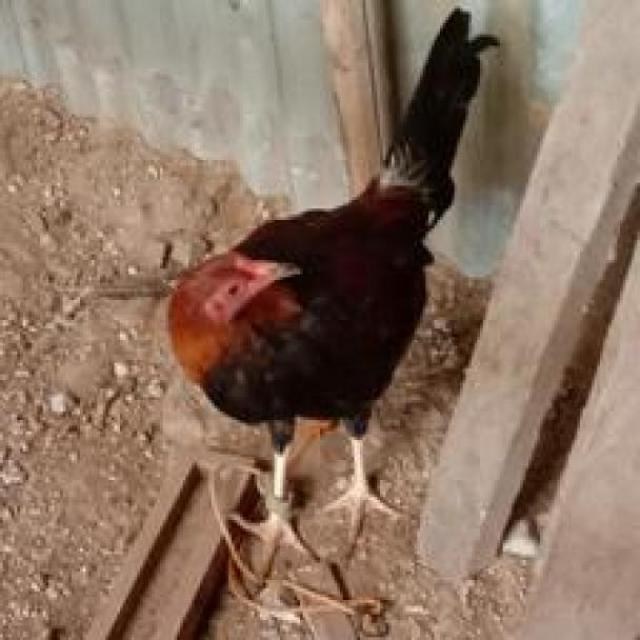Chicken: (145, 10, 491, 588)
